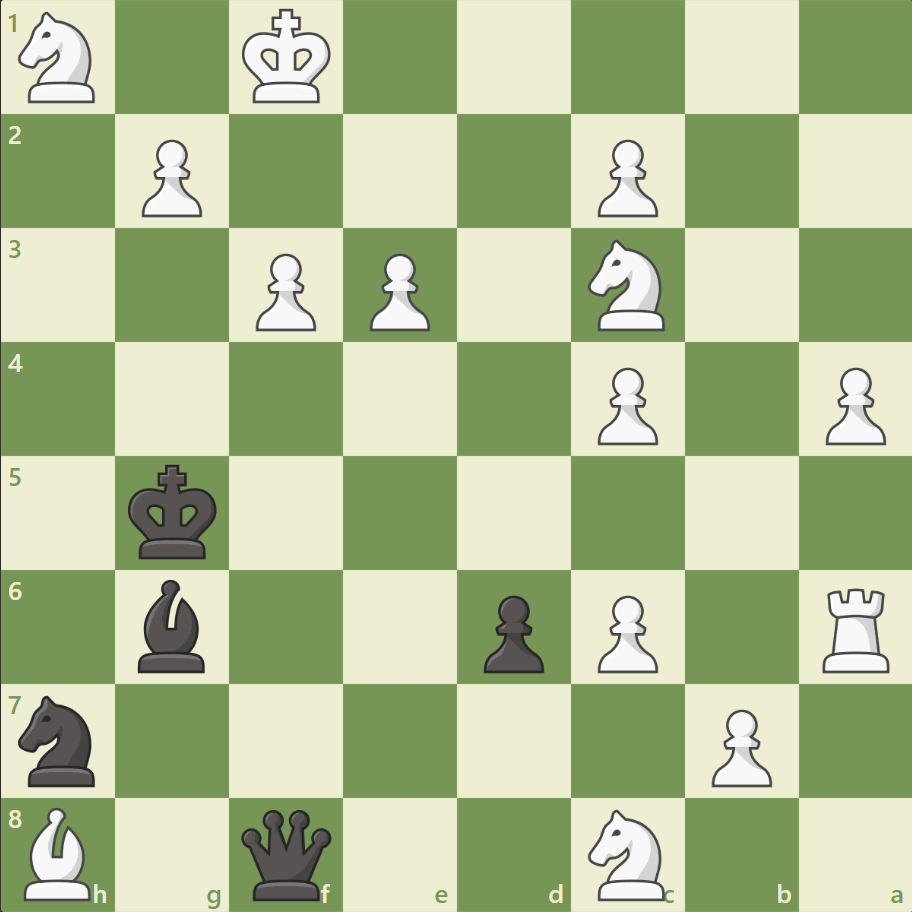B: (17, 801, 101, 904)
K: (238, 4, 338, 112)
N: (579, 234, 676, 337), (11, 7, 108, 110), (579, 802, 676, 904)
P: (701, 700, 776, 791), (247, 246, 322, 337), (133, 132, 208, 223), (588, 586, 662, 677), (815, 359, 889, 450), (588, 359, 662, 450), (361, 246, 435, 337), (588, 132, 662, 223)
R: (814, 579, 897, 676)
b: (131, 574, 215, 676)
k: (124, 458, 224, 566)
n: (11, 688, 108, 791)
p: (474, 586, 549, 677)
q: (237, 804, 336, 903)
